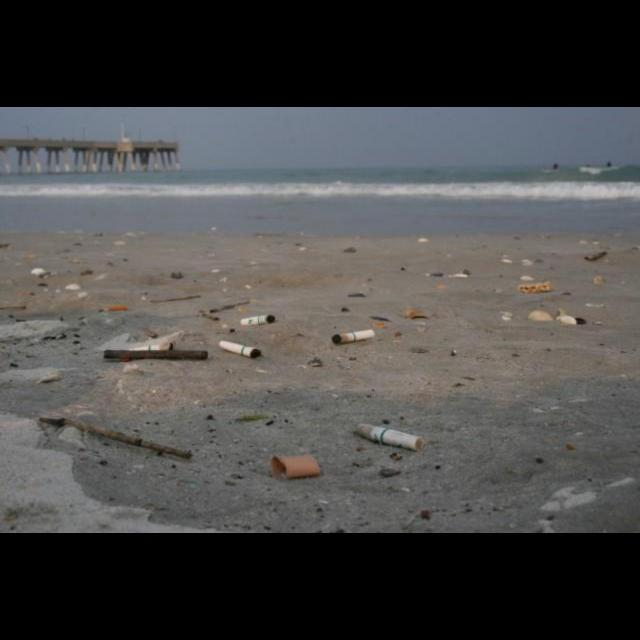cigarette: (354, 423, 424, 451), (219, 341, 262, 359), (331, 329, 375, 345), (127, 341, 177, 350), (240, 315, 275, 326), (97, 305, 128, 312)
